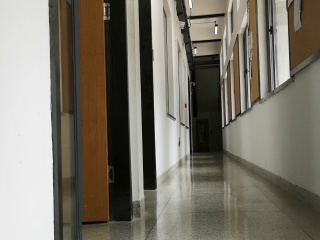room: (46, 2, 135, 226)
